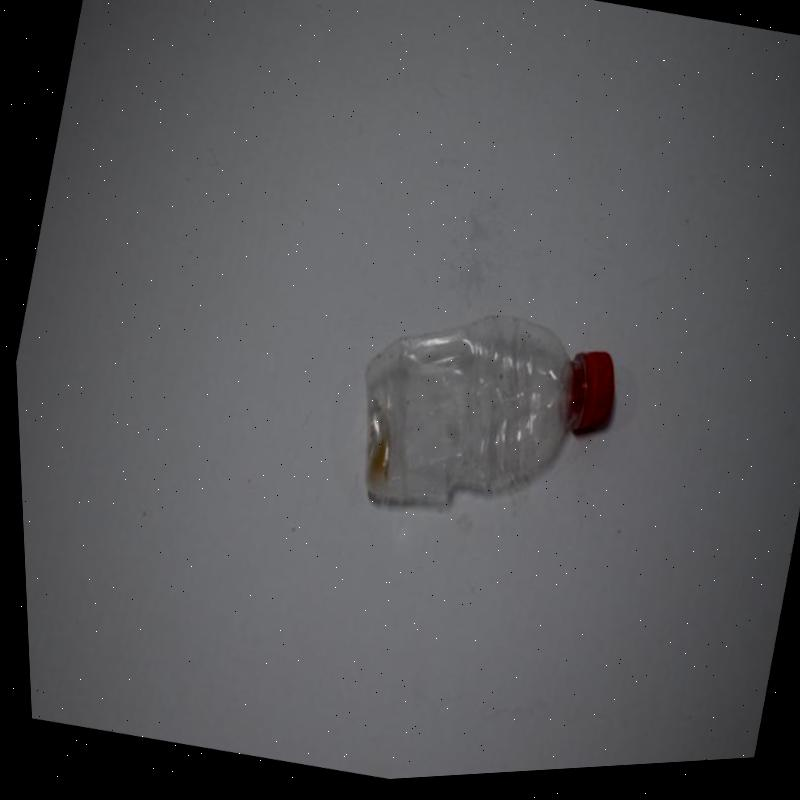botella: (328, 283, 630, 553)
